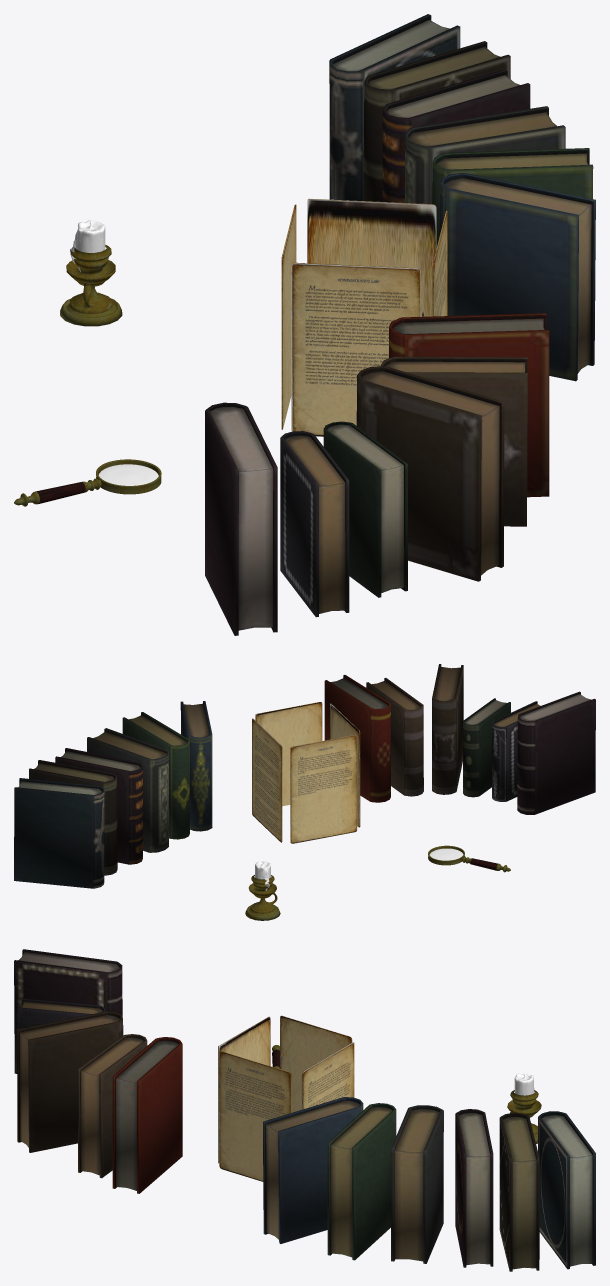
The model's file is services.gltf.
The picture shows the model from 3 angles, top to bottom: view 1: azimuth 30°, elevation 25°; view 2: azimuth 150°, elevation 25°; view 3: azimuth 270°, elevation 25°; orthographic projection. The views are drawn at different scales.
Visible parts, largest first — view 1: book6, book10, PageAdmin, book12, book7, book2, book11, PageCivil, book1, book9, book4, book3 (+8 smaller); view 2: book1, book12, PageCriminal, book2, book4, book10, book9, book3, book5, book6, PageCivil, book11 (+6 smaller); view 3: book10, book2, book6, book5, book1, book4, PageCorporate, book8, book3, book12, book9, PageCriminal (+4 smaller).
Part boxes in pixels (left/top/right/bottom): book6: left=439, top=173, right=595, bottom=381; book10: left=356, top=366, right=504, bottom=581; PageAdmin: left=291, top=262, right=420, bottom=436; book12: left=205, top=402, right=277, bottom=635; book7: left=280, top=431, right=349, bottom=617; book2: left=389, top=313, right=549, bottom=497; book11: left=323, top=421, right=407, bottom=597; PageCivil: left=307, top=198, right=436, bottom=316; book1: left=329, top=14, right=460, bottom=200; book9: left=380, top=356, right=527, bottom=526; book4: left=404, top=106, right=565, bottom=203; book3: left=382, top=69, right=530, bottom=202; book1: left=14, top=778, right=104, bottom=888; book12: left=517, top=691, right=595, bottom=814; PageCriminal: left=290, top=734, right=357, bottom=843; book2: left=324, top=675, right=390, bottom=802; book4: left=87, top=728, right=168, bottom=852; book10: left=432, top=664, right=463, bottom=794; book9: left=366, top=678, right=423, bottom=796; book3: left=55, top=748, right=142, bottom=864; book5: left=122, top=712, right=189, bottom=839; book6: left=180, top=701, right=212, bottom=831; PageCivil: left=252, top=718, right=282, bottom=842; book11: left=463, top=698, right=510, bottom=797; book10: left=17, top=1011, right=123, bottom=1152; book2: left=112, top=1037, right=182, bottom=1193; book6: left=263, top=1097, right=363, bottom=1243; book5: left=327, top=1103, right=396, bottom=1260; book1: left=538, top=1111, right=595, bottom=1269; book4: left=391, top=1105, right=443, bottom=1263; PageCorporate: left=219, top=1051, right=291, bottom=1181; book8: left=499, top=1112, right=539, bottom=1271; book3: left=455, top=1109, right=493, bottom=1267; book12: left=14, top=949, right=122, bottom=1073; book9: left=78, top=1034, right=147, bottom=1178; PageCriminal: left=280, top=1015, right=352, bottom=1112.
Bounding box in the file's own units: 6.08 × 1.6 × 6.74.
10 materials, 7 textured.
